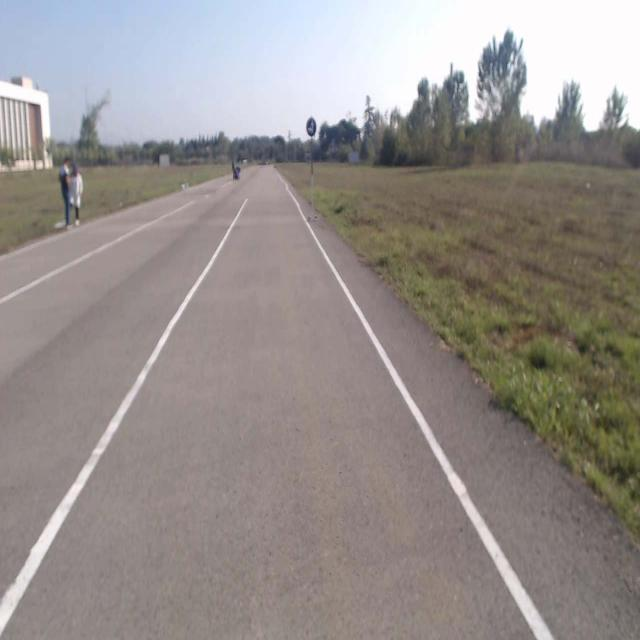ilerisol: (306, 117, 316, 135)
